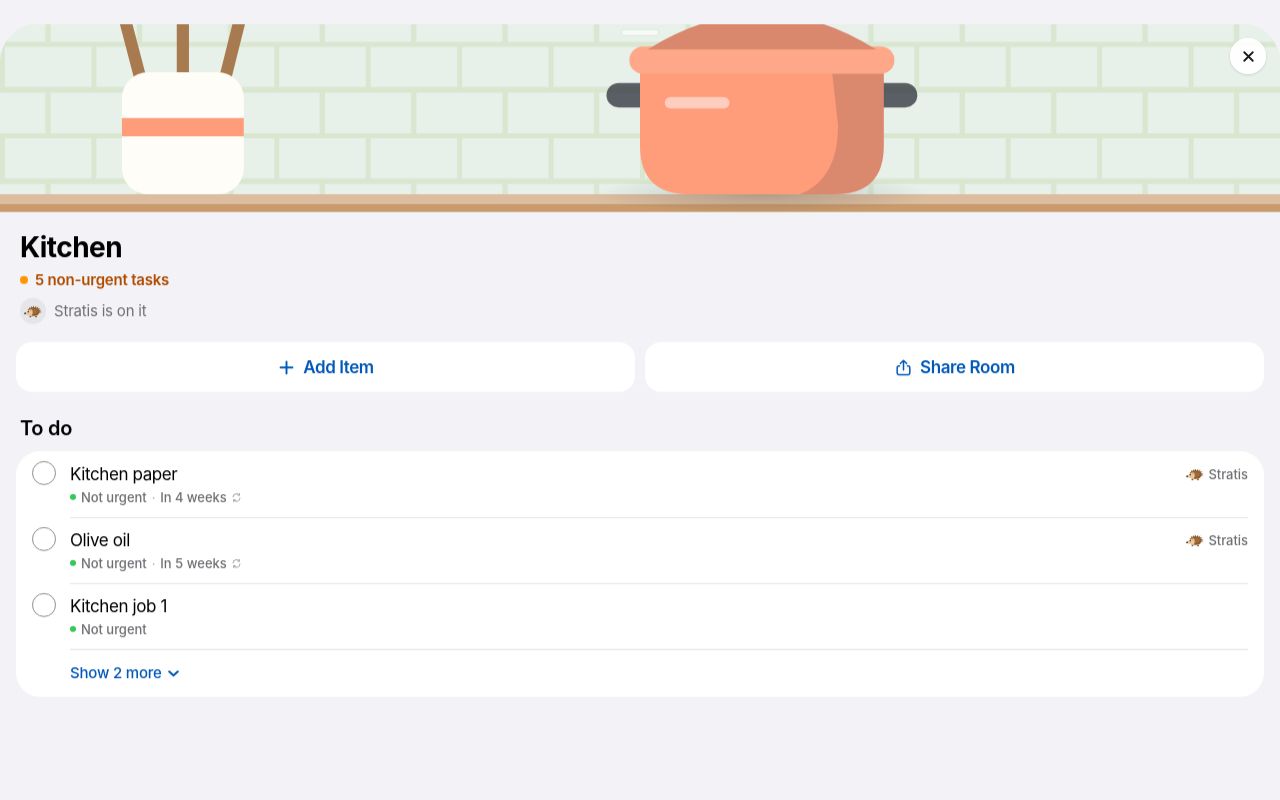
Scenario: AreaSheet › shows three jobs in a busy area, then "Show 2 more"
Click the button "Show 2 more" at (116, 672), box [16,649,1264,697]
(page scrolled)
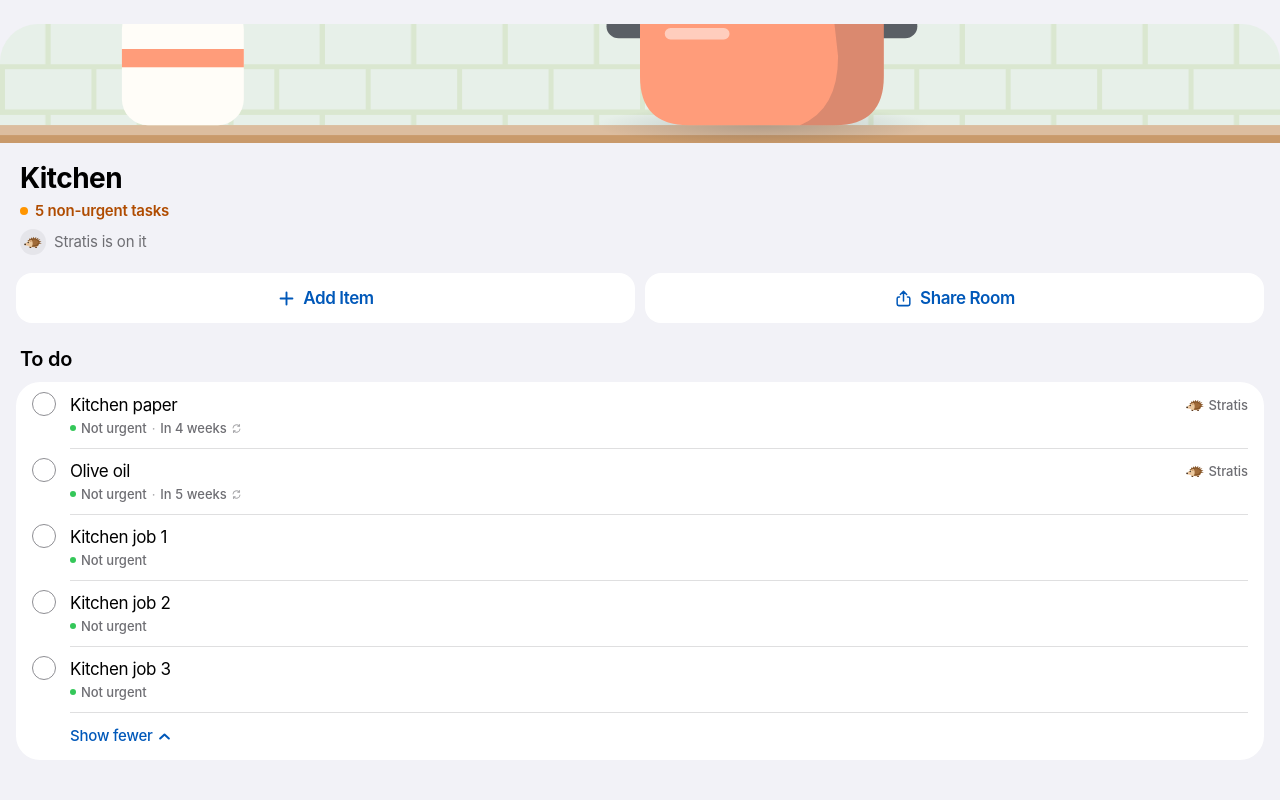
Click the button "Show fewer" at (111, 736), box [16,712,1264,760]
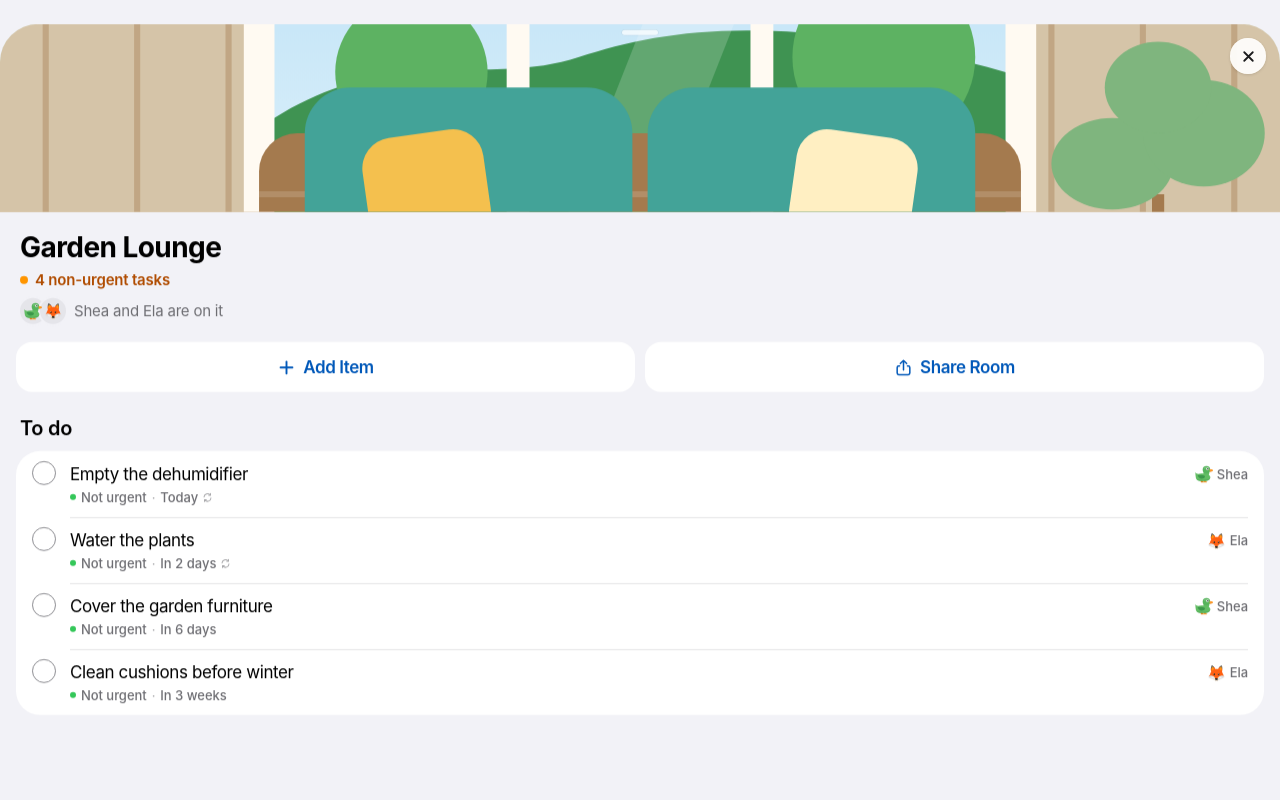
Check: the button "Show 2 more" is not shown
Check: the dialog "Garden Lounge" is shown
